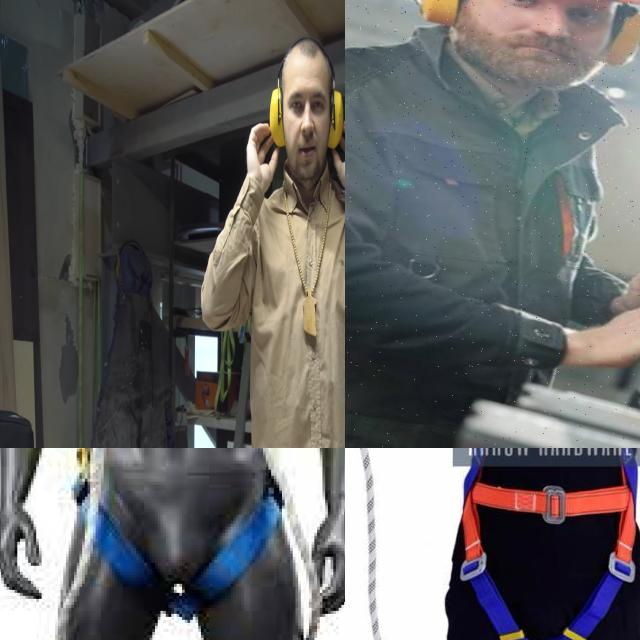Ear-protection: (271, 37, 345, 185), (598, 0, 640, 65), (410, 0, 467, 16)
Harness: (68, 448, 300, 607), (460, 448, 638, 640)
No_Glasses: (559, 0, 605, 36), (284, 86, 328, 119), (482, 0, 545, 23)
